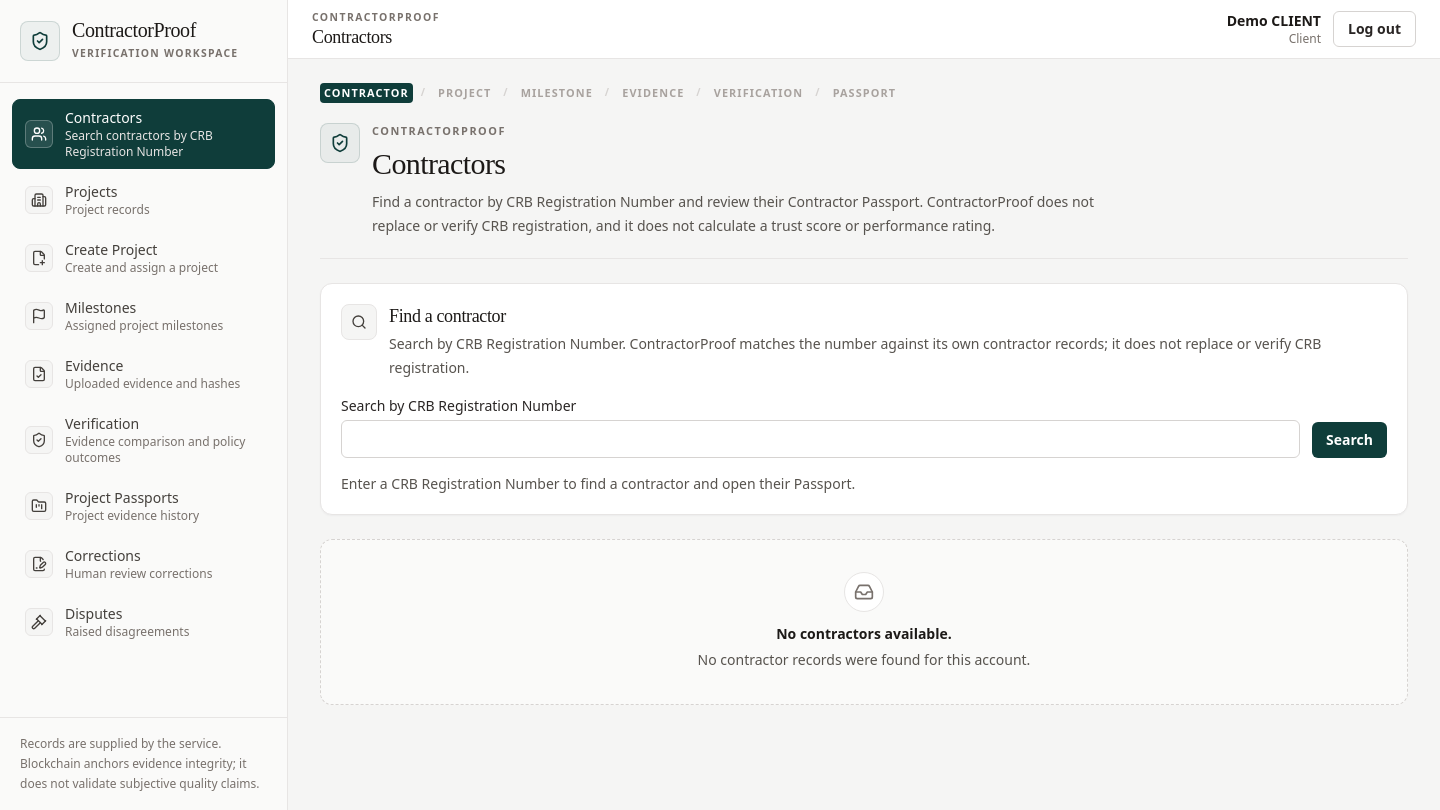
Test case: contractor discovery by CRB Registration Number › shows an empty not-found state for an unknown registration number
In the field labelled "Search by CRB Registration Number": (821, 440) left=341, top=420, right=1300, bottom=458, type "CRB-000"
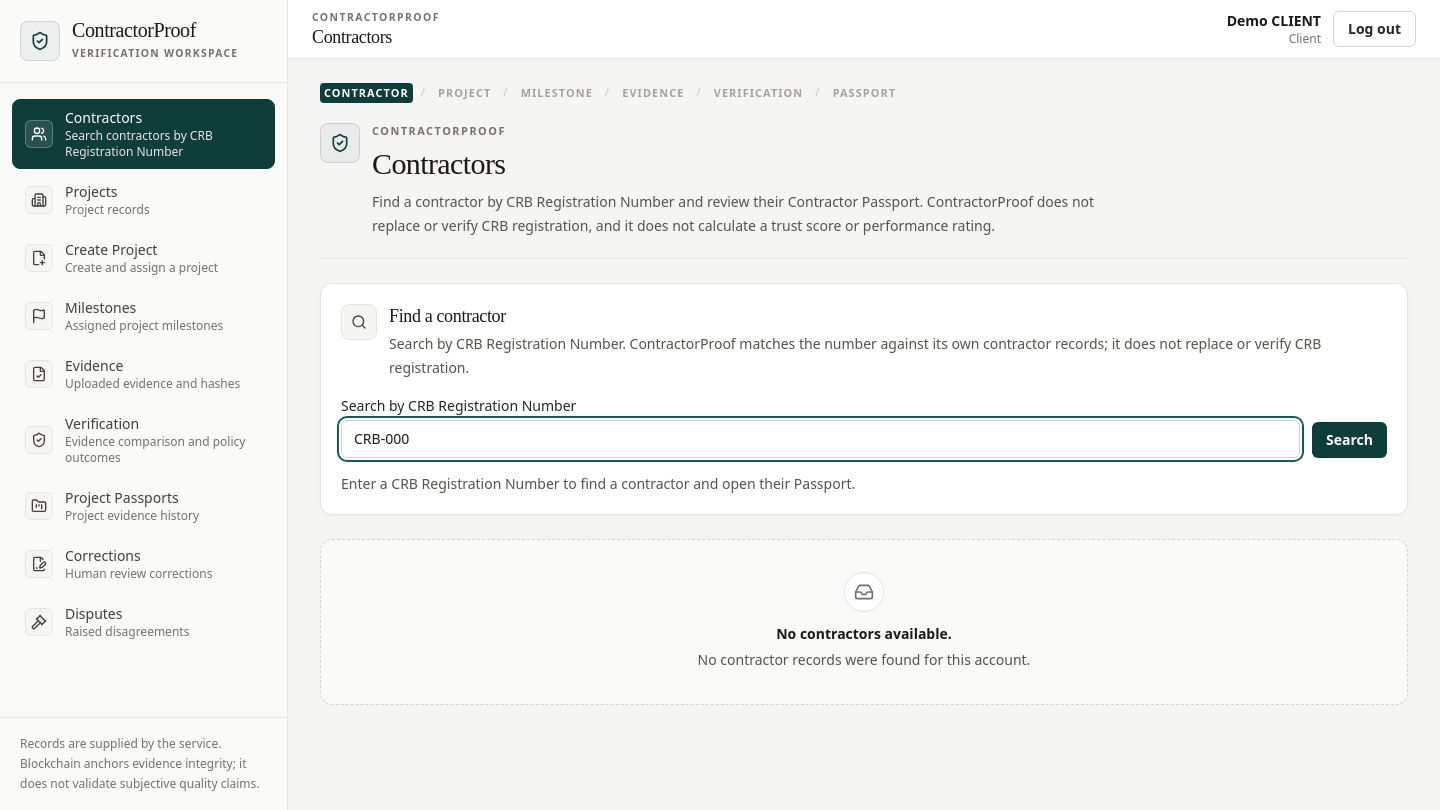
Click the button "Search": (1350, 440) left=1312, top=422, right=1387, bottom=458
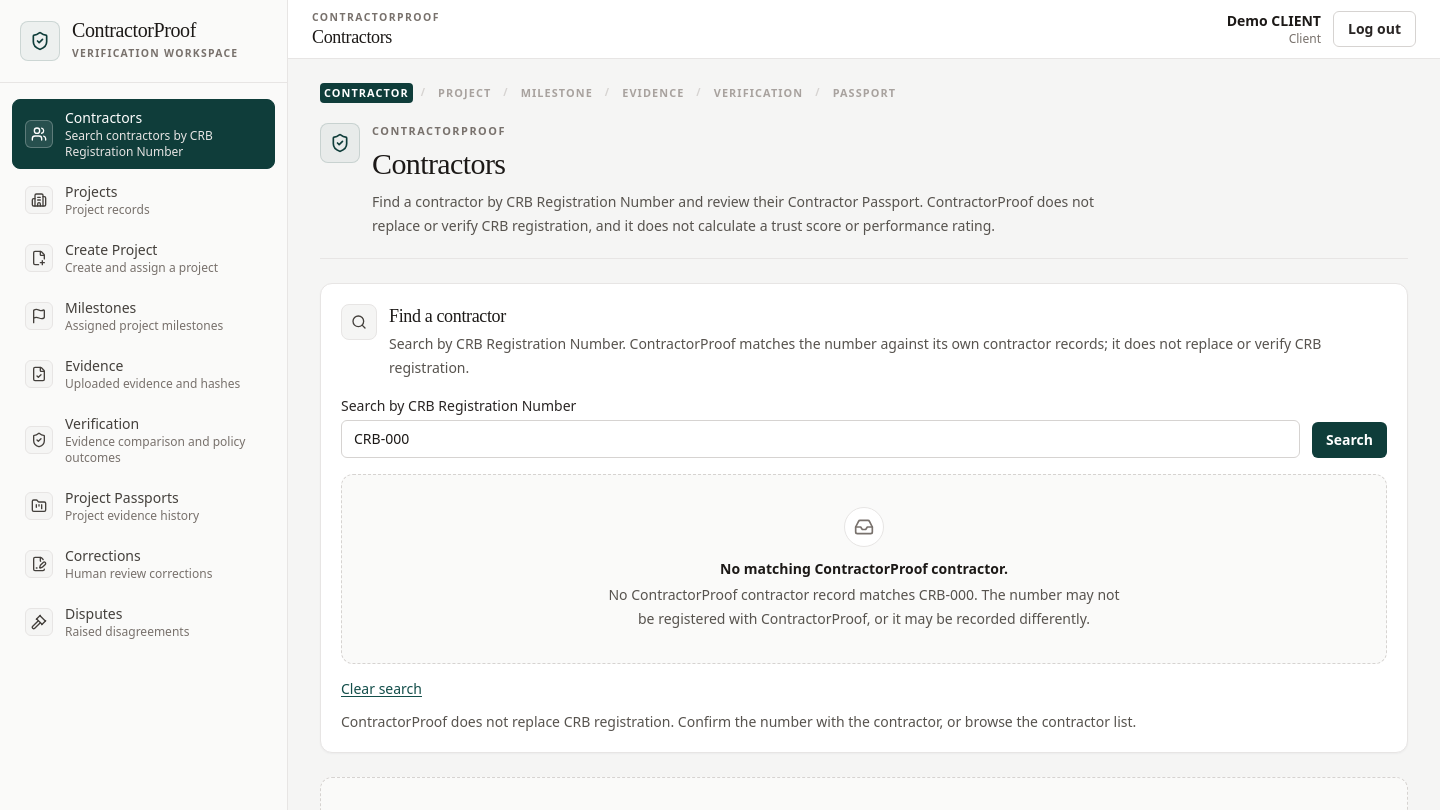
Expected: the text "No matching ContractorProof contractor." is shown, left=720, top=560, right=1008, bottom=578
Expected: the text "CRB-000" is shown, left=608, top=586, right=1120, bottom=628
